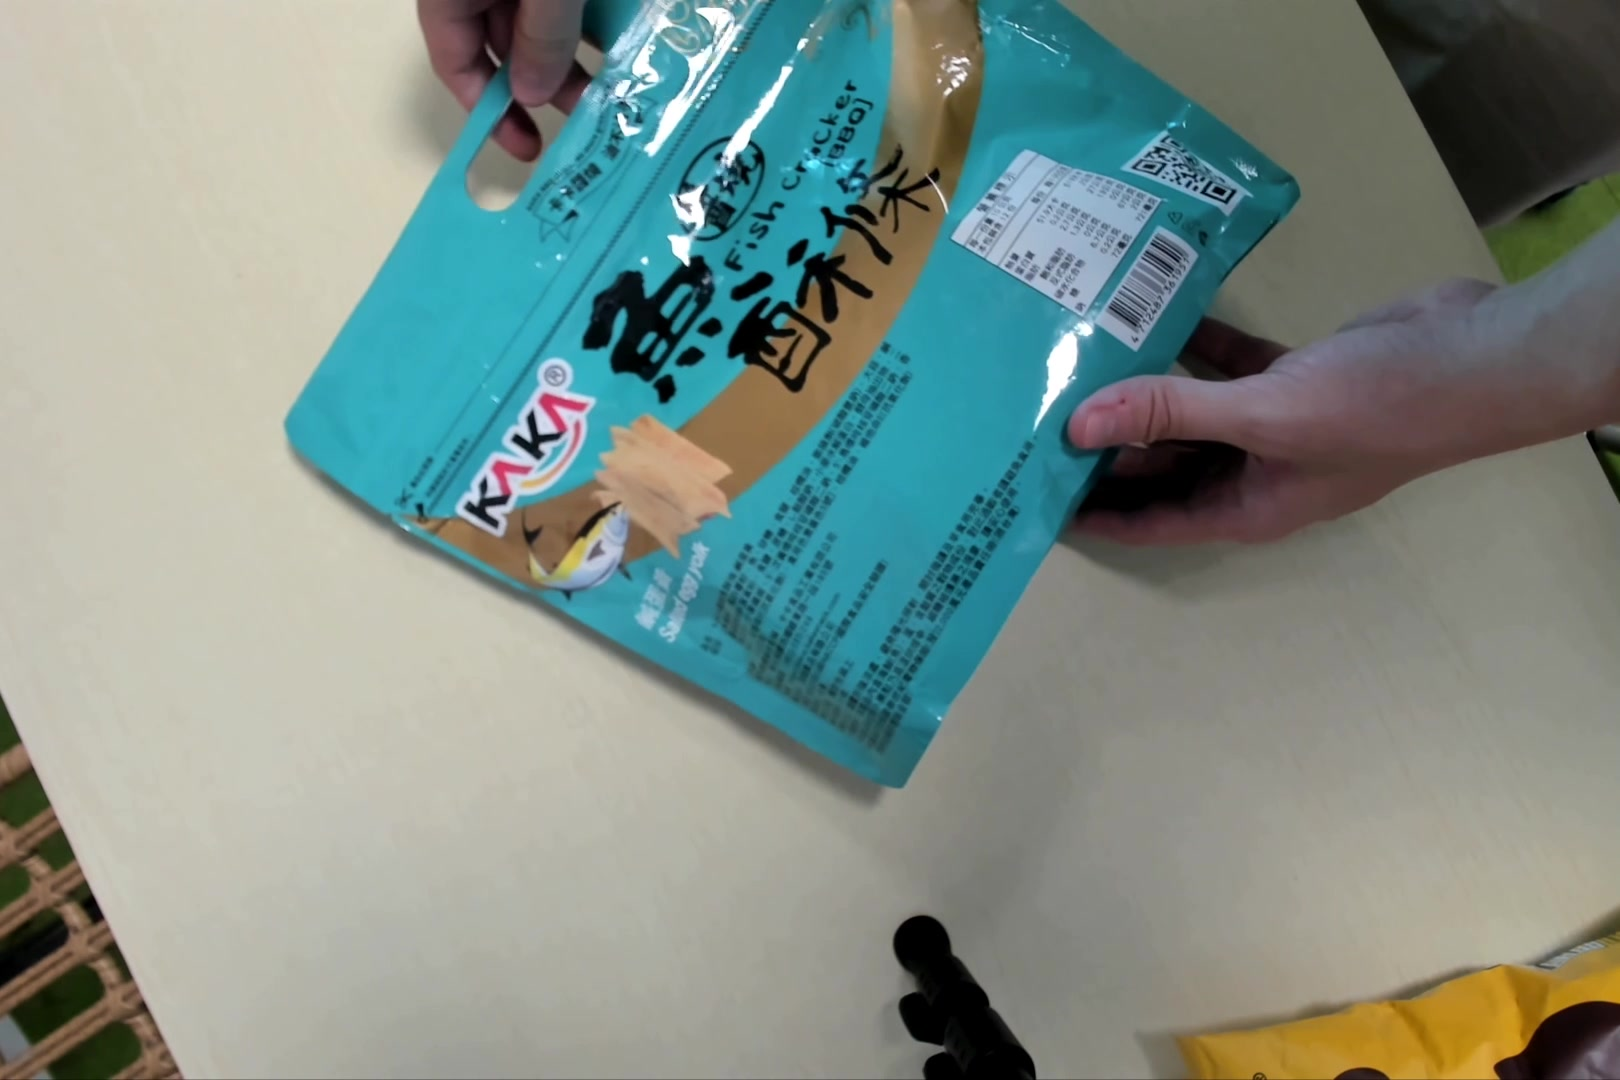PotatoChipsKeropok_100-199g_NonHalal_NonHealthy: (297, 5, 1308, 794)
